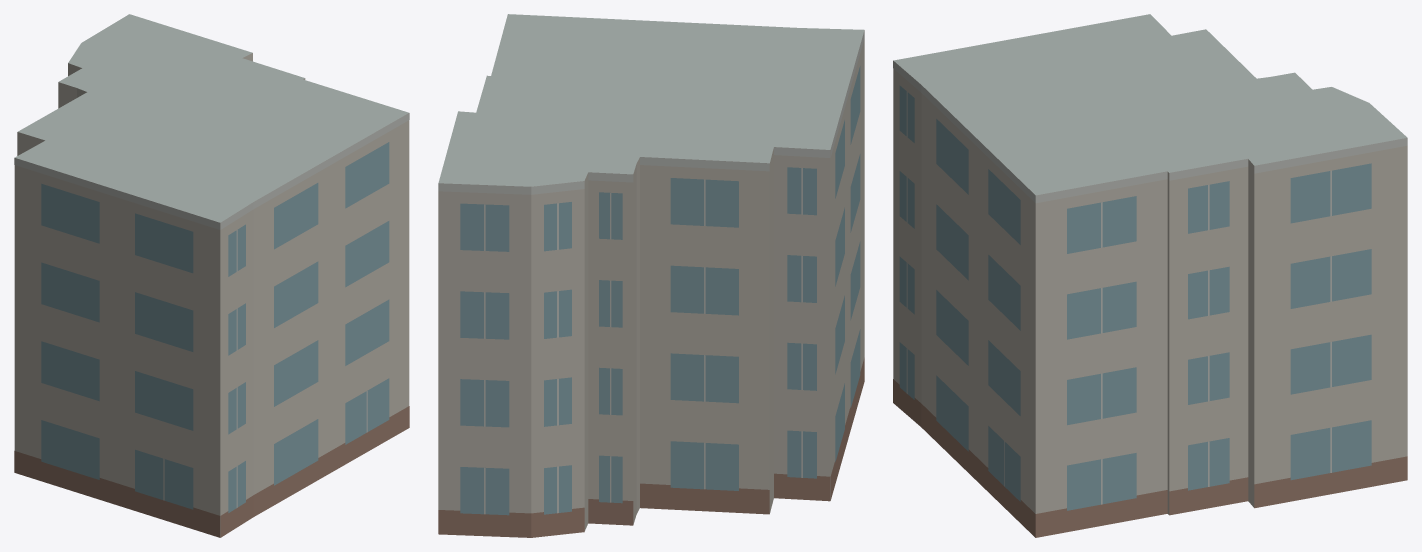
File: survey-upis-32516891.glb
3 renders of one model, left to right at view 1: azimuth 30°, elevation 25°; view 2: azimuth 150°, elevation 25°; view 3: azimuth 270°, elevation 25°, orthographic. The views are drawn at different scales.
Visible parts, largest first — view 1: survey-upis-32516891.tmp; view 2: survey-upis-32516891.tmp; view 3: survey-upis-32516891.tmp.
Boxes of the visible parts, x1,y1,x2,y2 form: survey-upis-32516891.tmp: (14, 14, 409, 537); survey-upis-32516891.tmp: (438, 14, 864, 537); survey-upis-32516891.tmp: (893, 14, 1407, 537).
Bounding box in the file's own units: 12.06 × 10.6 × 14.44.
